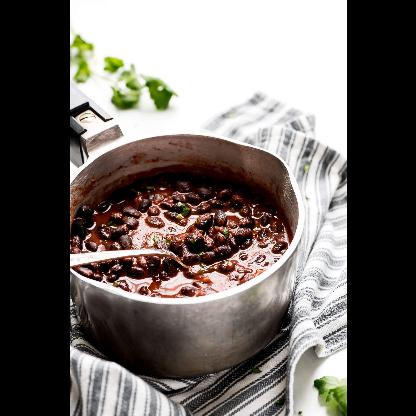black beans: (69, 172, 290, 296)
